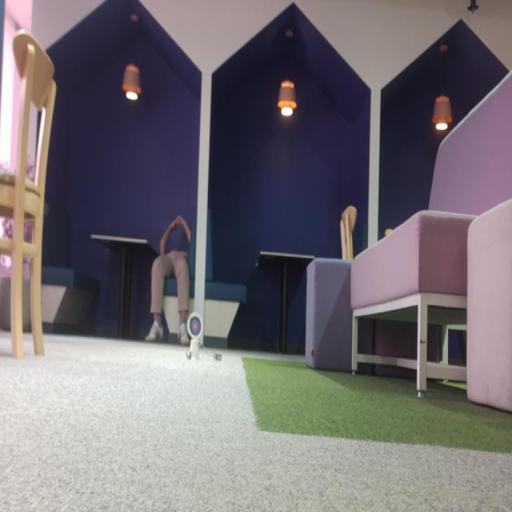target: (187, 313, 202, 339)
